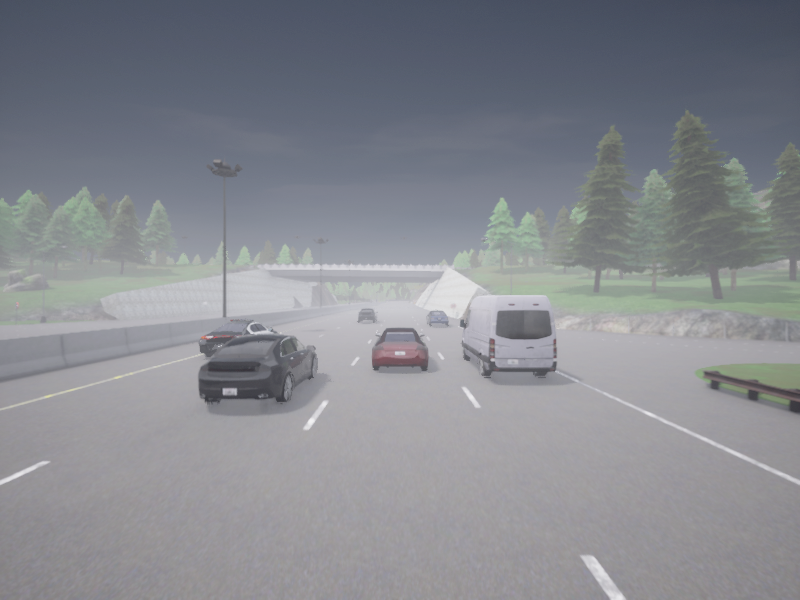vehicle: (198, 334, 316, 403), (460, 295, 556, 377), (198, 319, 276, 357), (372, 327, 427, 369), (426, 310, 448, 325), (358, 308, 377, 322)
